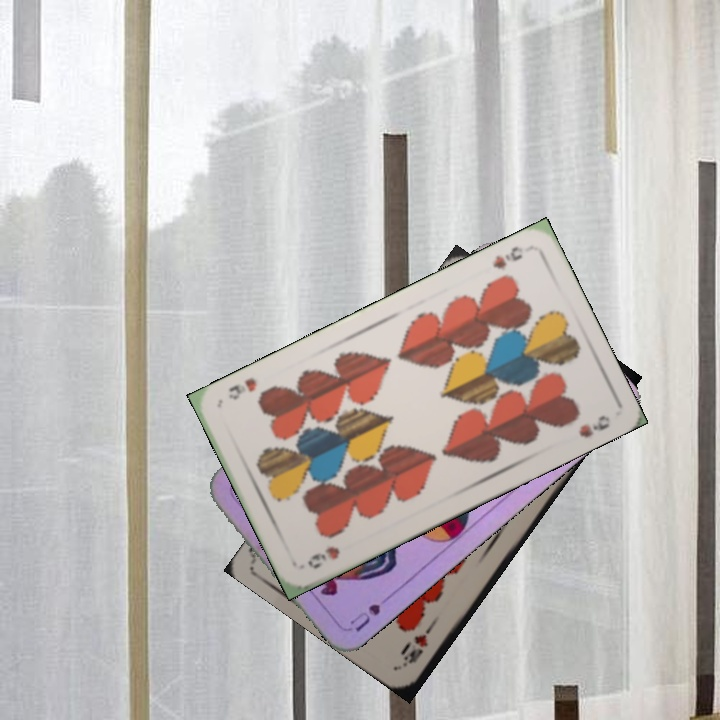H10: (399, 616, 439, 668)
H9: (303, 542, 342, 572), (489, 242, 526, 273)
SU: (345, 588, 397, 635)
